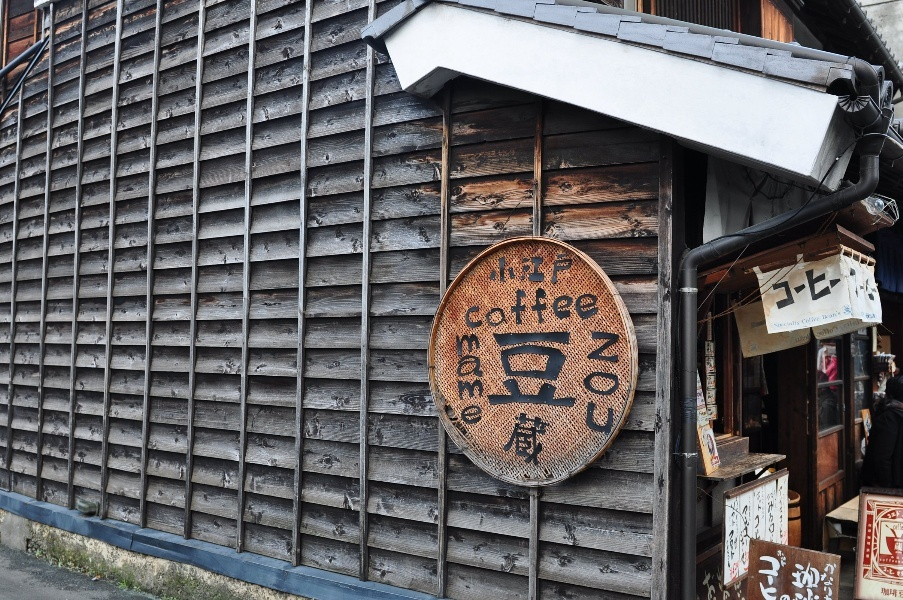text: (593, 331, 608, 437), (609, 331, 623, 437), (465, 333, 480, 427), (497, 330, 512, 409), (513, 330, 528, 409), (529, 330, 544, 409), (545, 330, 560, 409), (561, 330, 576, 409), (485, 330, 496, 409), (455, 333, 464, 427), (513, 412, 528, 468), (529, 412, 544, 468), (785, 259, 800, 313), (801, 259, 816, 313), (817, 259, 832, 313), (481, 281, 496, 331), (497, 281, 512, 331), (513, 281, 528, 331), (529, 281, 544, 331), (545, 281, 560, 331), (561, 281, 576, 331), (577, 281, 592, 331), (771, 259, 784, 313), (467, 281, 480, 331), (833, 259, 844, 313), (705, 566, 721, 600), (587, 331, 592, 437), (849, 269, 864, 303), (769, 554, 780, 600), (497, 253, 512, 286), (513, 253, 528, 286), (529, 253, 544, 286), (545, 253, 560, 286), (481, 333, 486, 427), (758, 554, 768, 600), (801, 561, 816, 591), (865, 269, 878, 303), (742, 505, 752, 549), (868, 524, 880, 560), (561, 253, 574, 286), (821, 562, 832, 599), (577, 330, 582, 409), (754, 514, 768, 542), (778, 486, 784, 545), (593, 281, 600, 331), (506, 412, 512, 468), (725, 540, 736, 570), (756, 490, 768, 514), (545, 412, 550, 468), (740, 548, 752, 571), (728, 529, 736, 562), (769, 501, 775, 542), (792, 561, 800, 591), (761, 486, 768, 520), (817, 324, 832, 339), (706, 358, 720, 373), (698, 566, 704, 600), (833, 562, 838, 599), (706, 344, 720, 357), (707, 406, 720, 420), (707, 376, 720, 389), (707, 391, 720, 404), (491, 253, 496, 286), (881, 587, 896, 598), (729, 559, 736, 581), (776, 550, 784, 569), (747, 494, 752, 524), (801, 316, 816, 325), (785, 320, 799, 329), (801, 332, 811, 344), (822, 310, 832, 320), (886, 510, 896, 520), (773, 320, 784, 329), (695, 390, 704, 400), (817, 561, 820, 591), (881, 559, 896, 565), (737, 496, 739, 539), (793, 332, 800, 344), (865, 312, 877, 319), (833, 310, 841, 320), (785, 550, 789, 569), (833, 324, 838, 339), (769, 492, 774, 503), (898, 589, 903, 599), (737, 559, 739, 581), (735, 496, 736, 539), (767, 501, 768, 542), (897, 510, 901, 520), (765, 492, 768, 503), (892, 524, 896, 532), (897, 524, 901, 532), (860, 312, 864, 319), (817, 316, 820, 325), (897, 559, 901, 565), (815, 324, 816, 339)
